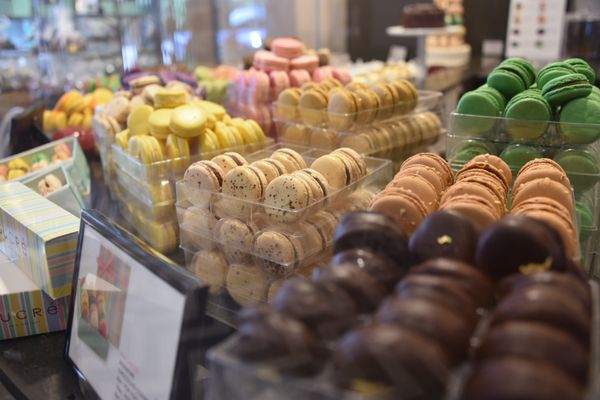salad: (471, 264, 594, 383), (374, 272, 484, 362), (474, 210, 564, 279), (407, 209, 476, 264), (369, 191, 427, 240), (221, 165, 266, 202), (311, 153, 348, 191)
